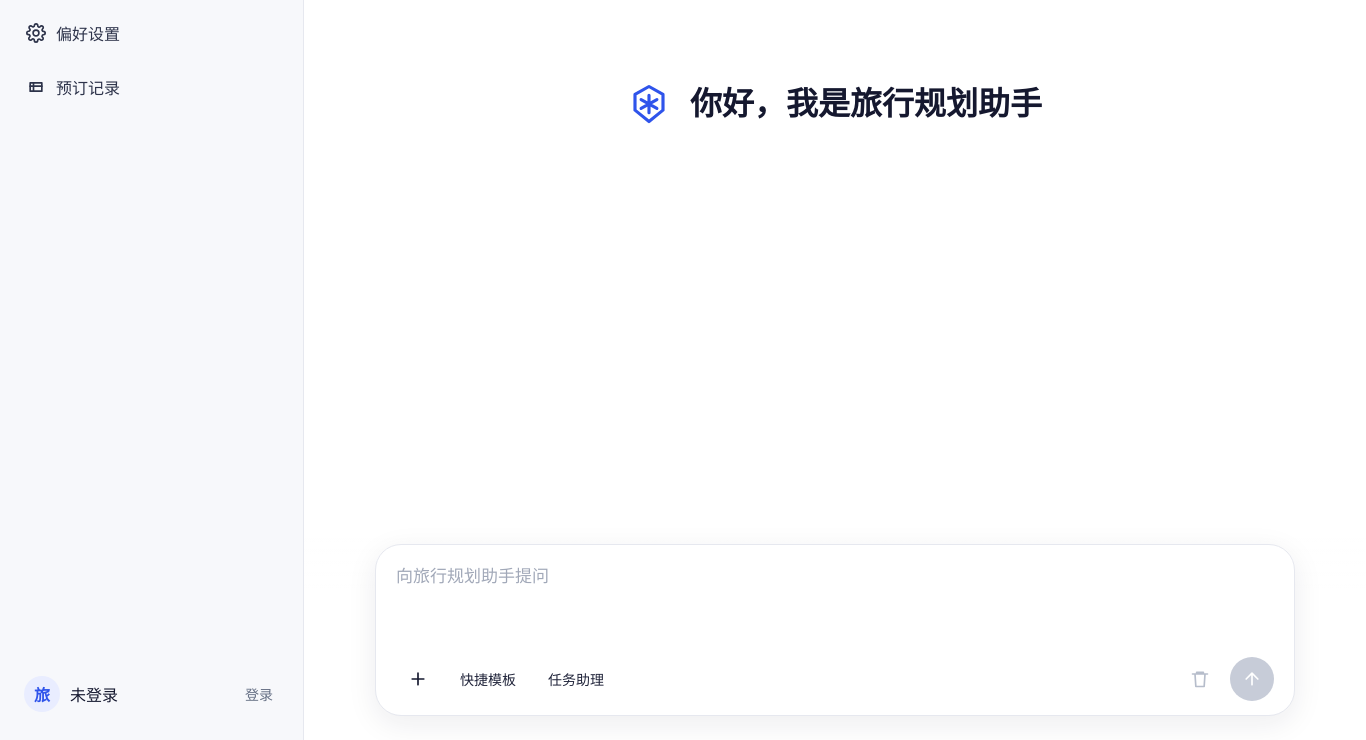
Test: logs in and shows the chat empty state
The image size is (1366, 740).
(page scrolled)
Expected: the heading "你好，我是旅行规划助手" is shown, [690,84,1042,124]
Click the button "登录" at (259, 694), box [239,683,279,705]
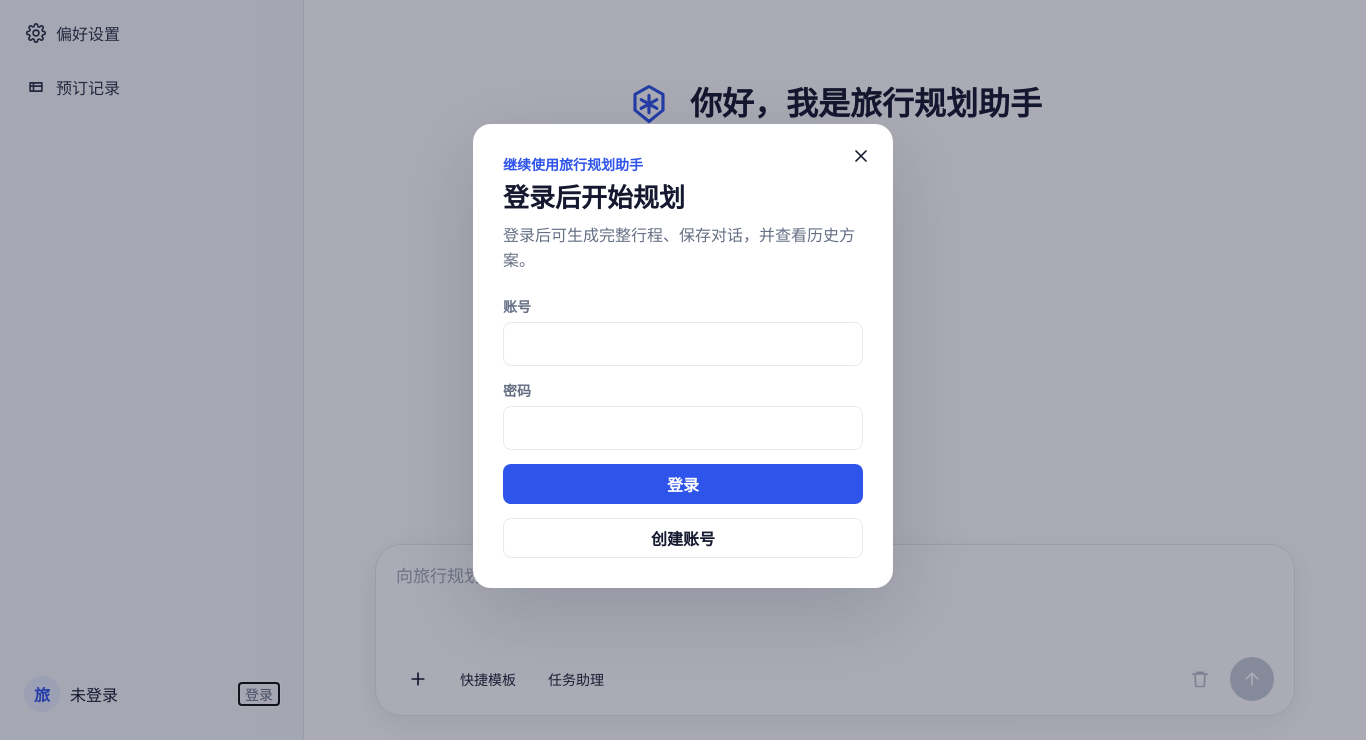
Type "alex" into the field labelled "账号" at (683, 344), box [503,322,863,366]
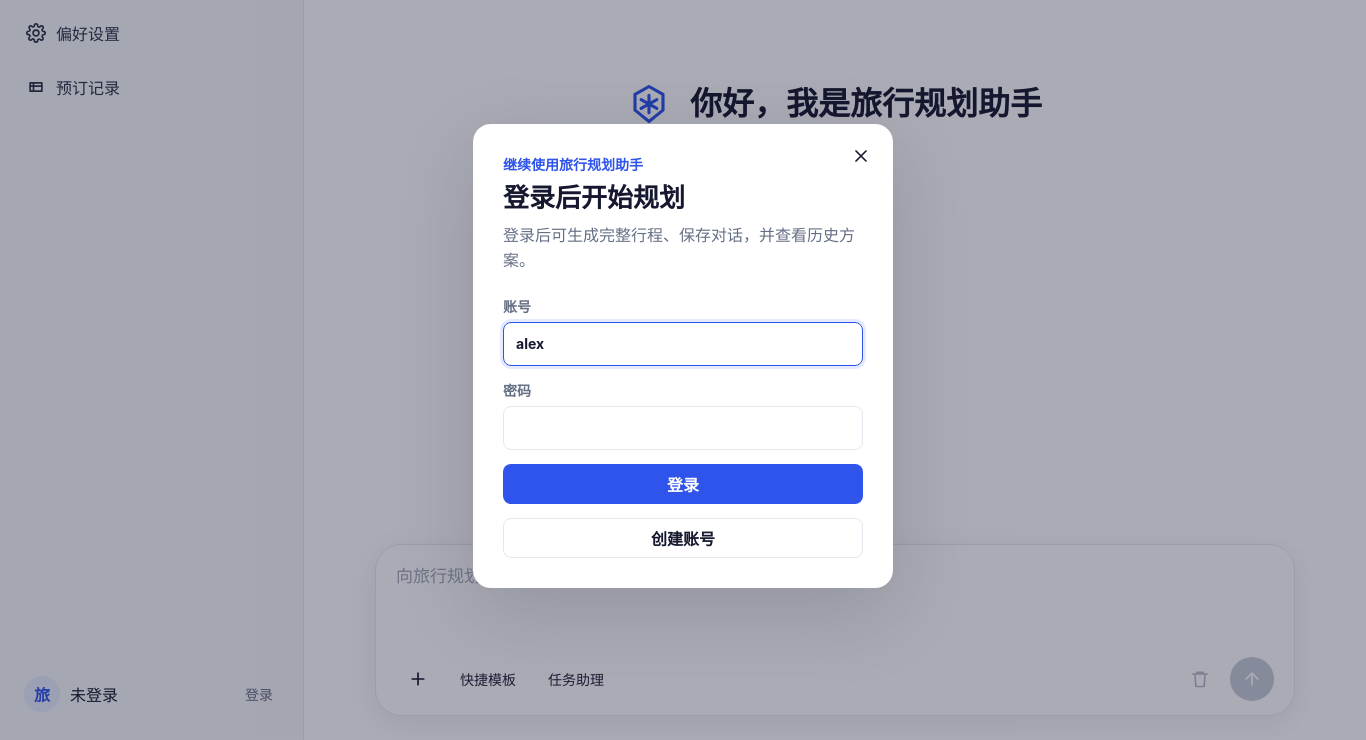
Type "secret" into the password field labelled "密码" at (683, 428), box [503,406,863,450]
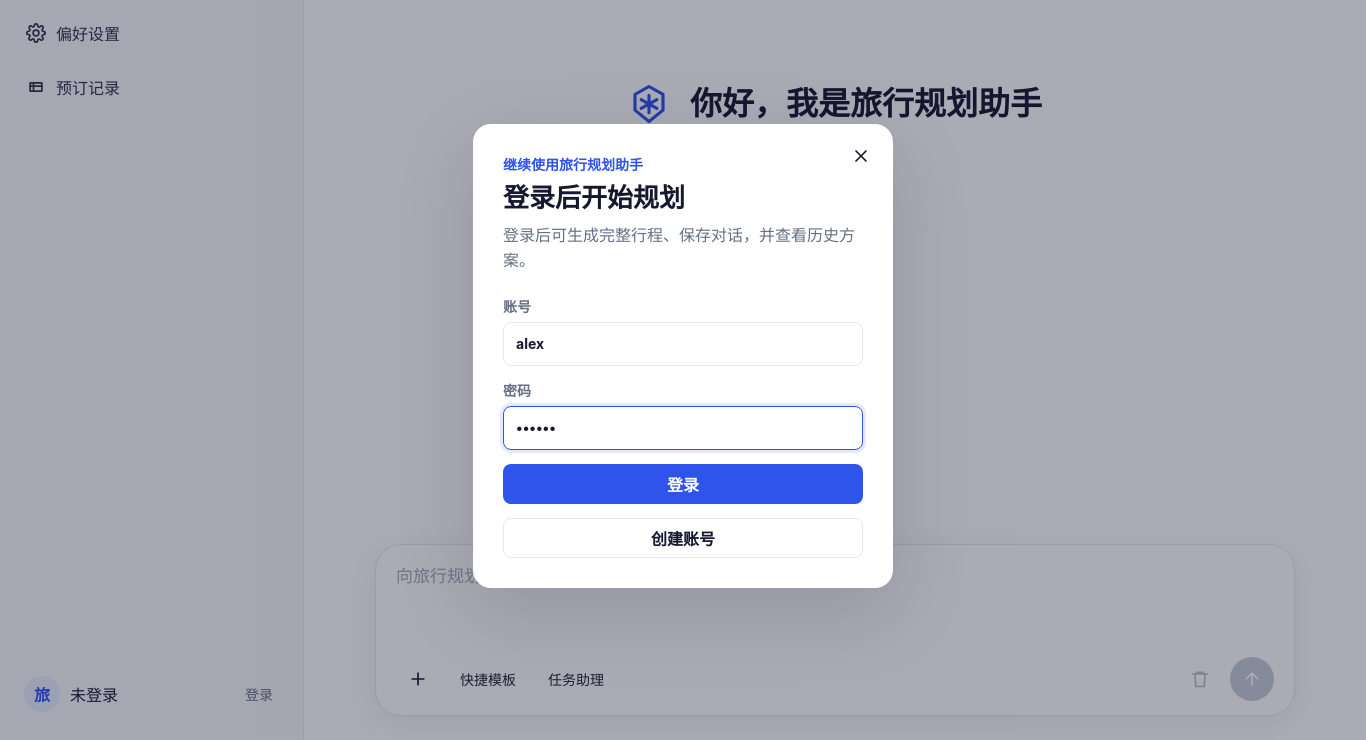
Click the button "登录" at (683, 484), box [503,464,863,504]
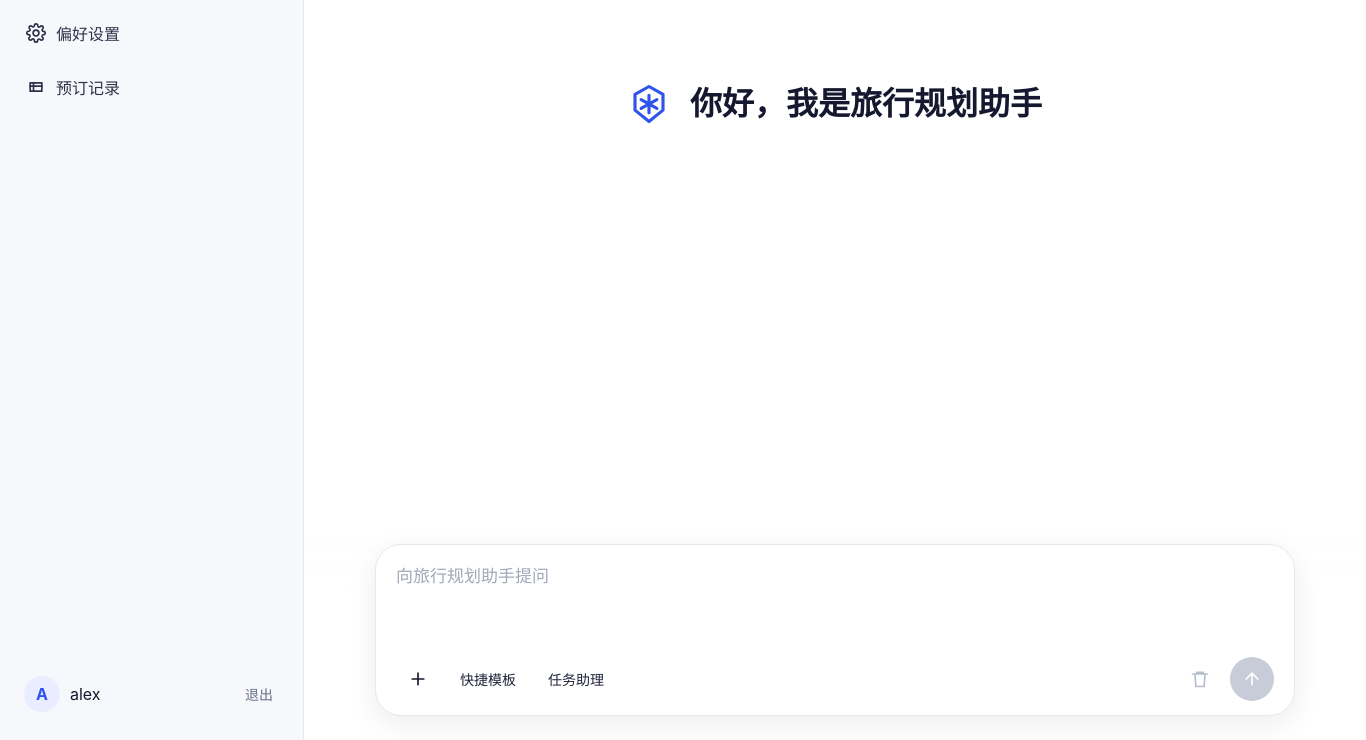
Expected: the heading "你好，我是旅行规划助手" is shown, [690,84,1042,124]
Expected: the text "alex" is shown, [70,684,101,704]
